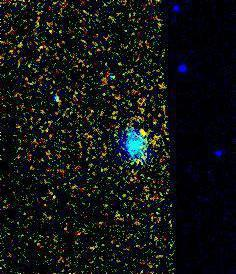star: (126, 116, 156, 146)
